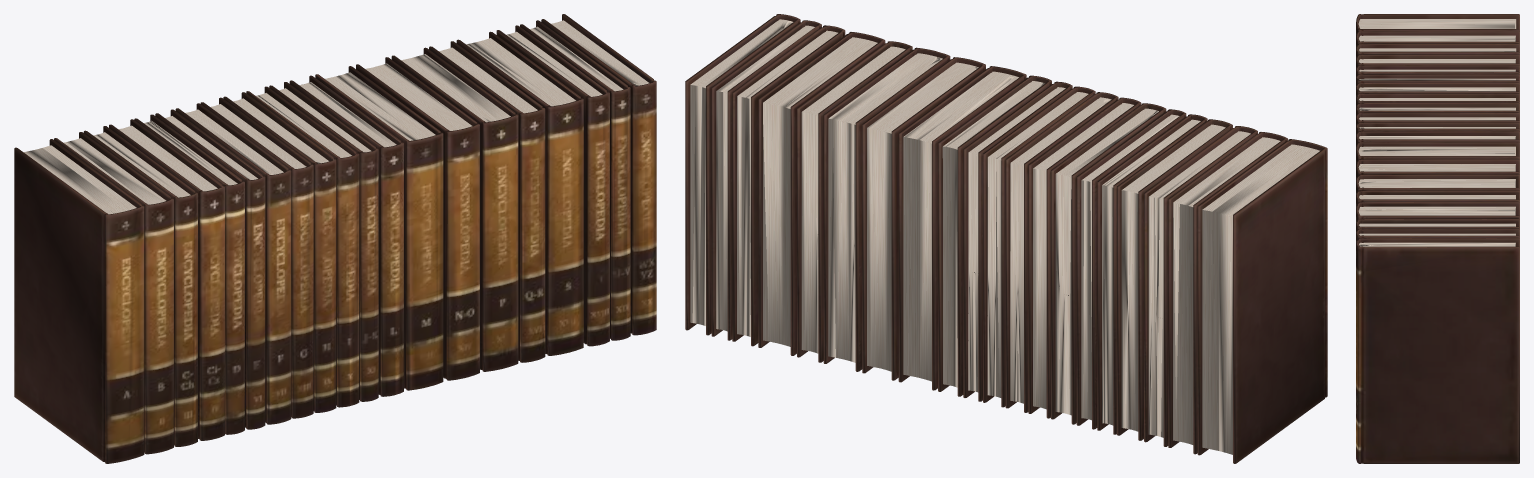
File: books.glb
The picture shows the model from 3 angles, left to right: view 1: azimuth 30°, elevation 25°; view 2: azimuth 150°, elevation 25°; view 3: azimuth 270°, elevation 25°; orthographic projection. The views are drawn at different scales.
Visible parts, largest first — view 1: book_encyclopedia_set_01_book01; view 2: book_encyclopedia_set_01_book01; view 3: book_encyclopedia_set_01_book01.
Boxes of the visible parts, <box> form: book_encyclopedia_set_01_book01: <box>14,14,656,463</box>; book_encyclopedia_set_01_book01: <box>685,14,1327,463</box>; book_encyclopedia_set_01_book01: <box>1356,14,1519,463</box>.
Bounding box in the file's own units: 0.5513 × 0.2374 × 0.1631.
2 materials, 2 textured.
